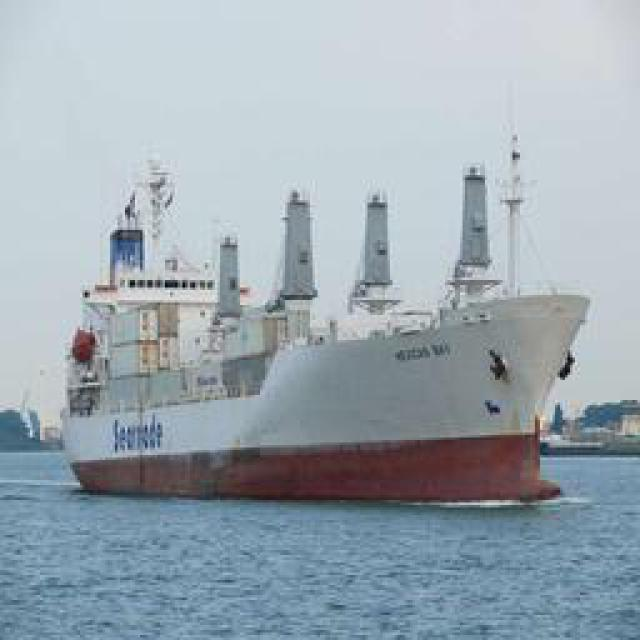Ship: (62, 152, 585, 500)
